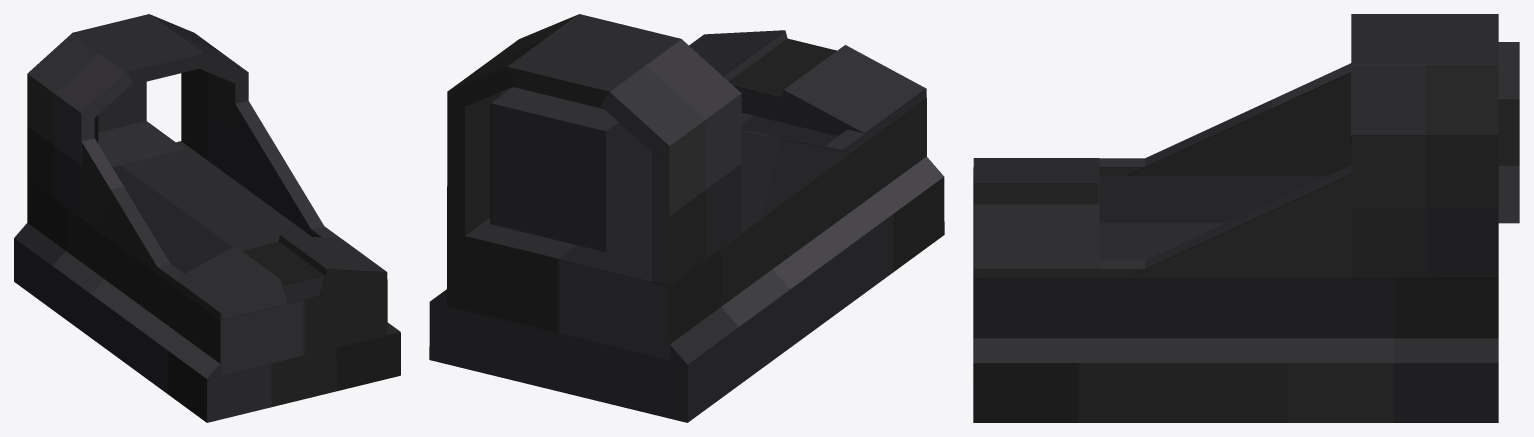
Rendered from moa.obj.
3 views of the same model, side by side, from view 1: azimuth 30°, elevation 25°; view 2: azimuth 150°, elevation 25°; view 3: azimuth 270°, elevation 25° (orthographic). The views are drawn at different scales.
Visible parts, largest first — view 1: sight_16, reticle_1; view 2: sight_16, reticle_1; view 3: sight_16, reticle_1.
Part boxes in pixels (bbox=[...]): sight_16: bbox=[14, 14, 400, 422]; reticle_1: bbox=[94, 81, 184, 166]; sight_16: bbox=[429, 14, 944, 422]; reticle_1: bbox=[490, 87, 651, 252]; sight_16: bbox=[973, 14, 1498, 422]; reticle_1: bbox=[1498, 42, 1519, 223].
Size of the model in its own units: 0.1812 by 0.2096 by 0.3251.
